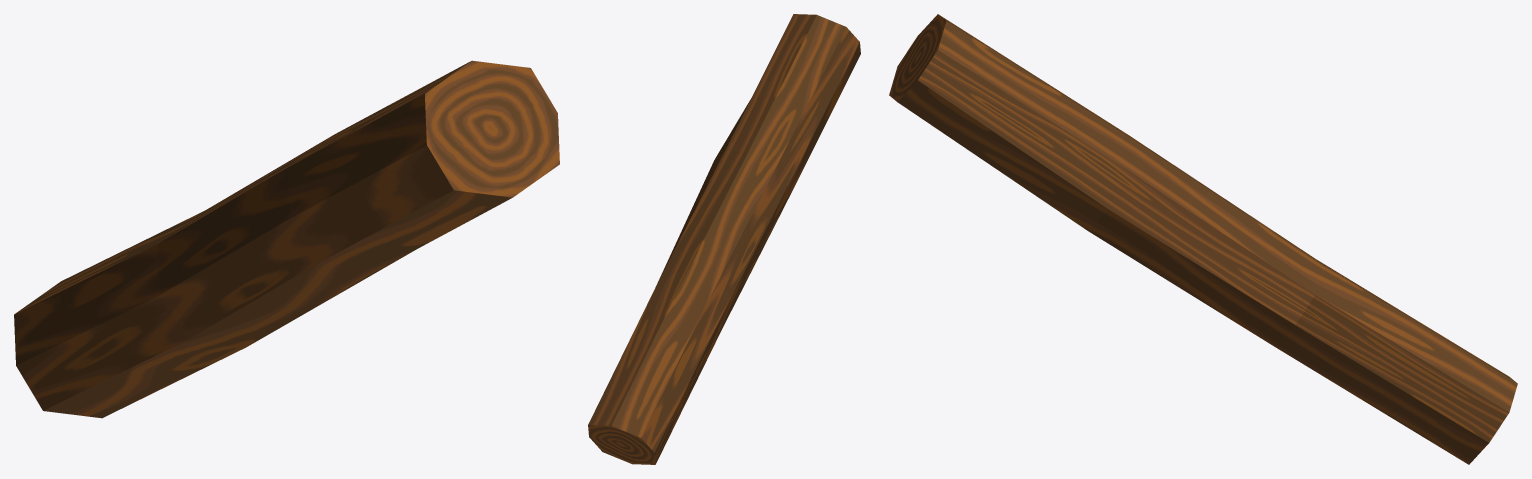
Rendered from LogBend-1.glb.
3 renders of one model, left to right at view 1: azimuth 30°, elevation 25°; view 2: azimuth 150°, elevation 25°; view 3: azimuth 270°, elevation 25°, orthographic. The views are drawn at different scales.
Parts seen in each view (by area): view 1: LogBend-1; view 2: LogBend-1; view 3: LogBend-1.
Boxes of the visible parts, left/top/right/bottom form: LogBend-1: left=14, top=60, right=559, bottom=418; LogBend-1: left=588, top=14, right=860, bottom=464; LogBend-1: left=889, top=14, right=1517, bottom=464.
Size of the model in its own units: 0.24 by 0.9334 by 1.22.
Materials: 1 (1 with a texture image).
